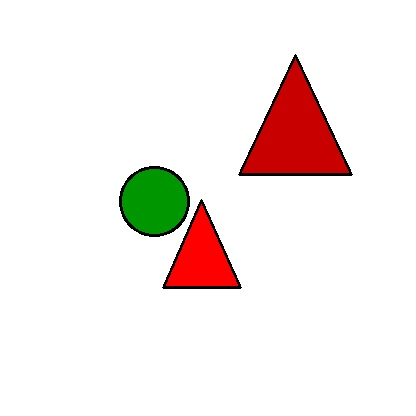circle: (96, 167, 212, 235)
triangle: (239, 55, 351, 174), (163, 200, 240, 287)
